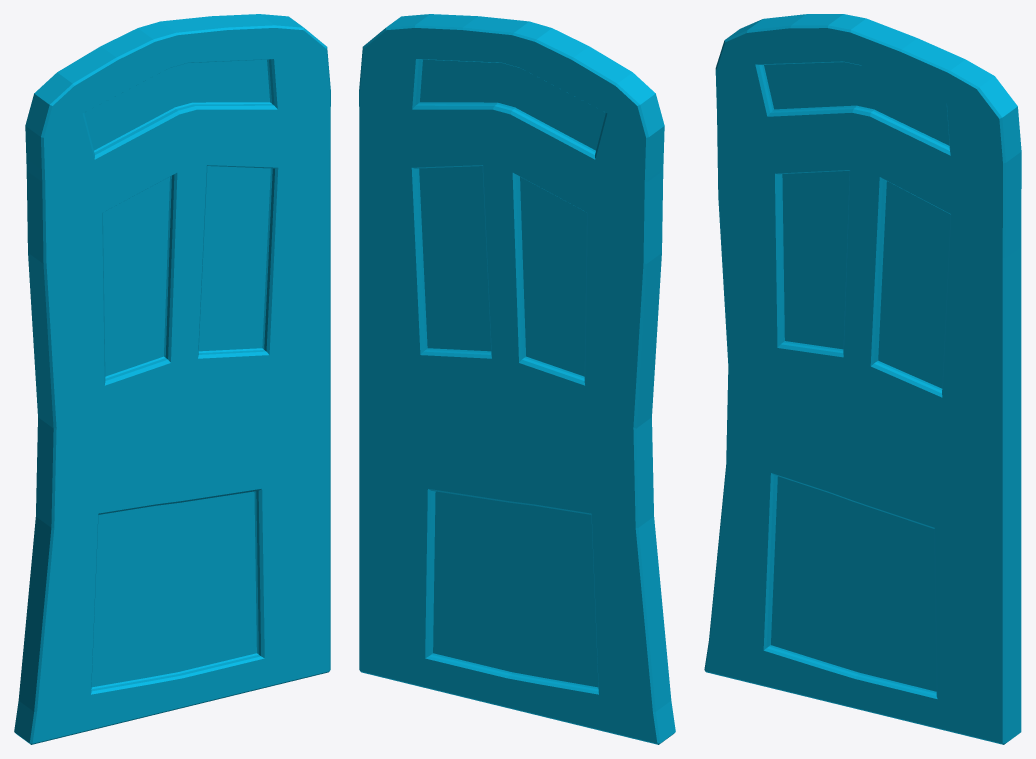
Rendered from PORTE.fbx.
3 renders of one model, left to right at view 1: azimuth 30°, elevation 25°; view 2: azimuth 150°, elevation 25°; view 3: azimuth 330°, elevation 25°, orthographic.
Visible parts, largest first — view 1: Simple_Door; view 2: Simple_Door; view 3: Simple_Door.
Part boxes in pixels (x1,y1,x2,y2): Simple_Door: (14, 14, 330, 744); Simple_Door: (359, 14, 675, 744); Simple_Door: (704, 14, 1021, 744).
Size of the model in its own units: 1.15 by 2.46 by 0.1166.
